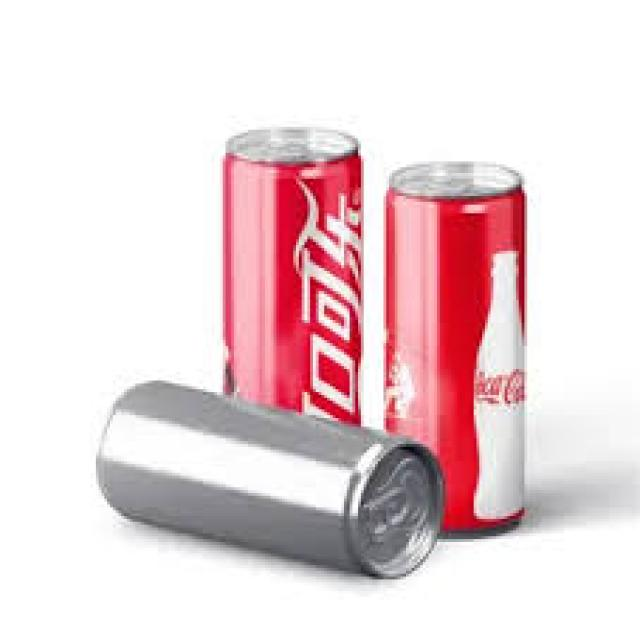Cans: (85, 375, 454, 588), (380, 150, 532, 530), (215, 115, 366, 432)
